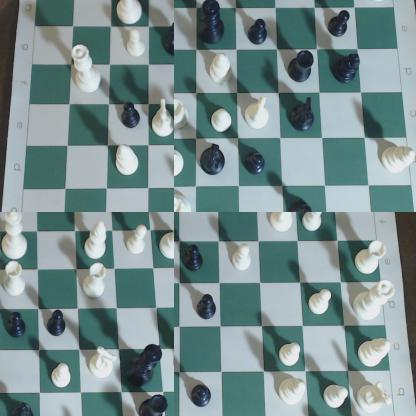black-bishop: (336, 49, 365, 92), (8, 400, 38, 416)
black-king: (133, 345, 166, 389), (200, 1, 227, 47)
black-knight: (288, 97, 319, 135), (200, 144, 229, 176), (165, 15, 174, 60)
black-pawn: (7, 310, 38, 343), (329, 10, 356, 44), (192, 291, 221, 322), (249, 10, 271, 47), (47, 311, 71, 343), (123, 99, 144, 132), (241, 152, 267, 178), (189, 383, 212, 411), (184, 243, 204, 273), (288, 200, 318, 212)
black-queen: (127, 344, 163, 390)
black-rook: (288, 46, 316, 86), (140, 390, 173, 416)
white-bishop: (82, 219, 114, 263), (357, 339, 397, 371), (270, 378, 309, 410), (379, 142, 416, 173), (114, 143, 144, 180), (211, 53, 237, 90)
white-king: (1, 213, 34, 263), (113, 1, 147, 27)
white-knight: (88, 340, 120, 380), (148, 96, 174, 145), (359, 383, 395, 416), (243, 97, 273, 131), (265, 213, 299, 237), (175, 143, 188, 180)
white-pawn: (124, 26, 150, 68), (121, 226, 150, 262), (46, 361, 76, 393), (226, 245, 255, 276), (276, 342, 304, 372), (309, 290, 337, 318), (299, 213, 330, 236), (325, 381, 349, 410), (212, 108, 235, 134)
white-queen: (67, 44, 105, 99), (352, 283, 398, 321), (159, 213, 174, 267), (175, 191, 195, 212)
white-rook: (82, 263, 117, 311), (355, 239, 390, 276), (2, 264, 31, 299), (175, 96, 191, 133)
